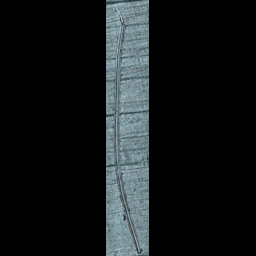d: (112, 4, 144, 254)
